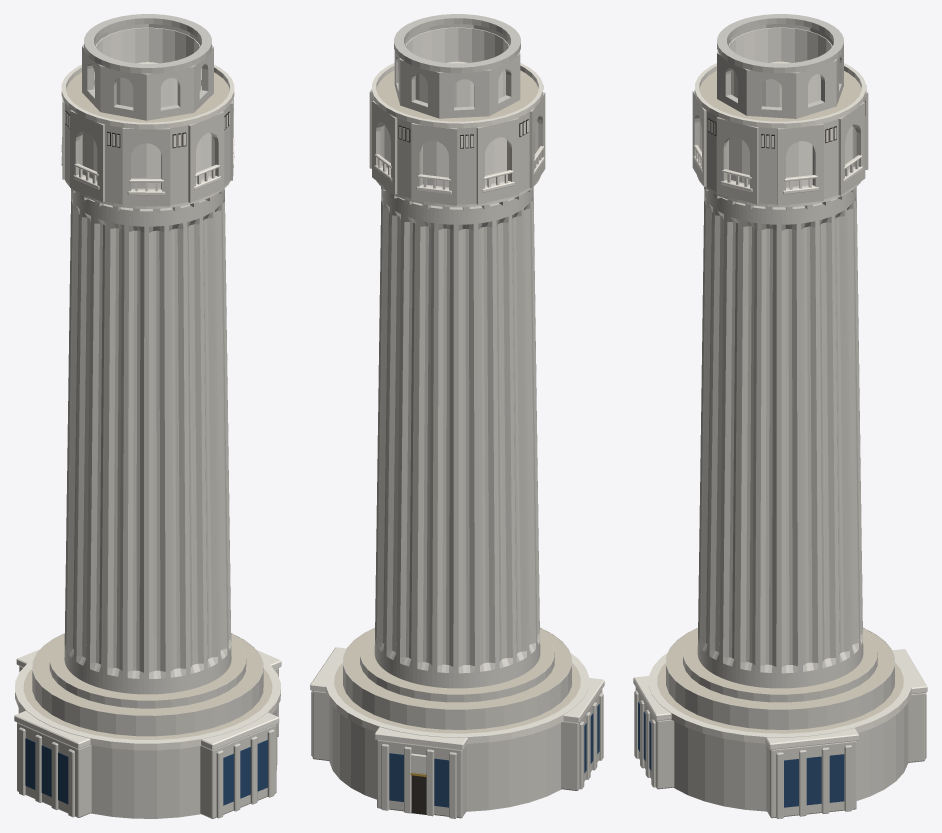
The model's file is coit-tower.glb.
3 views of the same model, side by side, from view 1: azimuth 30°, elevation 25°; view 2: azimuth 150°, elevation 25°; view 3: azimuth 270°, elevation 25° (orthographic).
Parts seen in each view (by area): view 1: shaft, rotunda_drum, mid_drum, lantern_glow_liner, mid_roof, lantern_rim, rotunda_cornice, step_roof, loggia_bay_5, loggia_glow_shell, bay_2, bay_3 (+22 smaller); view 2: shaft, rotunda_drum, mid_drum, lantern_glow_liner, mid_roof, rotunda_cornice, lantern_rim, step_roof, loggia_bay_0, loggia_bay_7, loggia_glow_shell, bay_0 (+21 smaller); view 3: shaft, rotunda_drum, mid_drum, lantern_glow_liner, mid_roof, rotunda_cornice, lantern_rim, step_roof, loggia_bay_2, bay_1, loggia_bay_3, loggia_glow_shell (+21 smaller).
Part boxes in pixels (x1=…): shaft: x1=64, y1=189, x2=231, y2=694; rotunda_drum: x1=18, y1=708, x2=277, y2=818; mid_drum: x1=32, y1=633, x2=263, y2=736; lantern_glow_liner: x1=94, y1=27, x2=201, y2=107; mid_roof: x1=32, y1=633, x2=262, y2=715; lantern_rim: x1=84, y1=14, x2=211, y2=73; rotunda_cornice: x1=15, y1=659, x2=280, y2=750; step_roof: x1=49, y1=637, x2=246, y2=701; loggia_bay_5: x1=122, y1=128, x2=170, y2=206; loggia_glow_shell: x1=82, y1=131, x2=211, y2=188; bay_2: x1=200, y1=724, x2=276, y2=818; bay_3: x1=17, y1=722, x2=91, y2=817; shaft: x1=374, y1=187, x2=540, y2=688; rotunda_drum: x1=329, y1=702, x2=561, y2=811; mid_drum: x1=343, y1=627, x2=571, y2=729; lantern_glow_liner: x1=405, y1=27, x2=509, y2=107; mid_roof: x1=343, y1=628, x2=571, y2=710; rotunda_cornice: x1=325, y1=653, x2=589, y2=743; lantern_rim: x1=394, y1=14, x2=520, y2=73; step_roof: x1=360, y1=632, x2=553, y2=695; loggia_bay_0: x1=411, y1=123, x2=457, y2=205; loggia_bay_7: x1=476, y1=118, x2=519, y2=204; loggia_glow_shell: x1=383, y1=125, x2=506, y2=187; bay_0: x1=377, y1=740, x2=466, y2=818; shaft: x1=697, y1=187, x2=863, y2=688; rotunda_drum: x1=674, y1=702, x2=908, y2=811; mid_drum: x1=666, y1=627, x2=894, y2=729; lantern_glow_liner: x1=728, y1=27, x2=832, y2=107; mid_roof: x1=666, y1=628, x2=894, y2=709; rotunda_cornice: x1=648, y1=653, x2=912, y2=743; lantern_rim: x1=717, y1=14, x2=843, y2=73; step_roof: x1=683, y1=632, x2=877, y2=694; loggia_bay_2: x1=777, y1=123, x2=823, y2=205; bay_1: x1=766, y1=741, x2=856, y2=818; loggia_bay_3: x1=716, y1=117, x2=758, y2=204; loggia_glow_shell: x1=729, y1=125, x2=853, y2=187.
Size of the model in its own units: 23.8 by 64 by 23.8.
